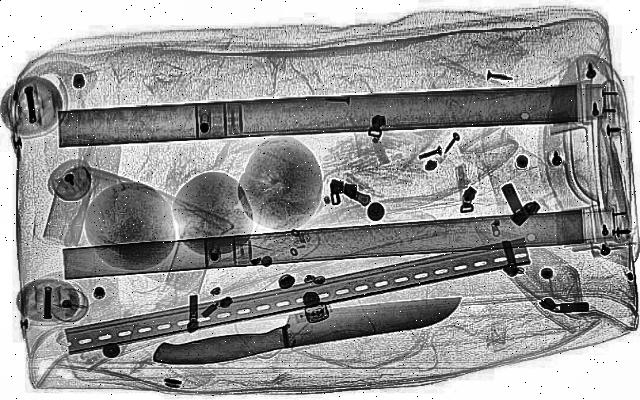Knife: (142, 284, 472, 372)
